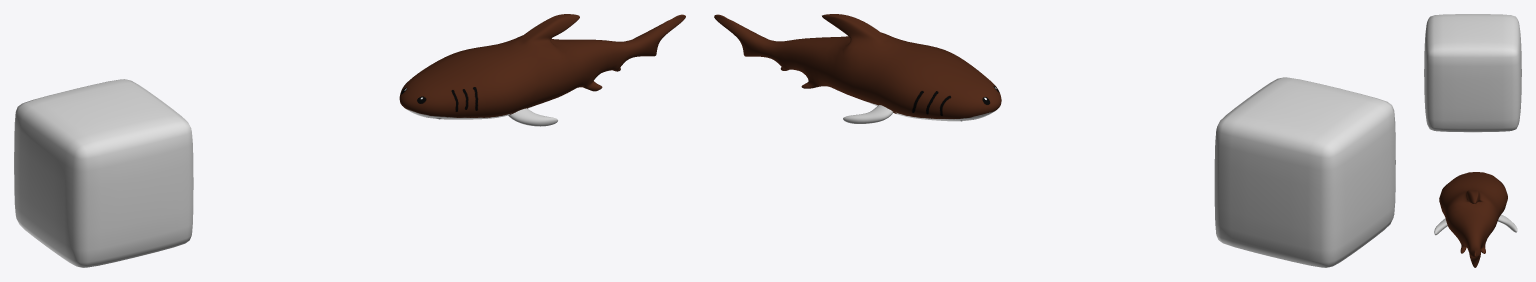
Rendered from DonutShark2test222222.fbx.
The picture shows the model from 3 angles, left to right: view 1: azimuth 30°, elevation 25°; view 2: azimuth 150°, elevation 25°; view 3: azimuth 270°, elevation 25°; orthographic projection. The views are drawn at different scales.
Visible parts, largest first — view 1: Cube.003, Cube, Cube.001; view 2: Cube.003, Cube, Cube.002; view 3: Cube.003, Cube, Cube.002, Cube.001.
Boxes of the visible parts, x1,y1,x2,y2 form: Cube.003: [14, 79, 193, 267]; Cube: [399, 14, 685, 119]; Cube.001: [508, 108, 557, 126]; Cube.003: [1214, 77, 1395, 267]; Cube: [714, 14, 1001, 121]; Cube.002: [843, 105, 893, 123]; Cube.003: [1424, 14, 1521, 132]; Cube: [1439, 172, 1507, 267]; Cube.002: [1498, 214, 1517, 232]; Cube.001: [1434, 218, 1447, 235].
Bounding box in the file's own units: 1021 × 198 × 198.
